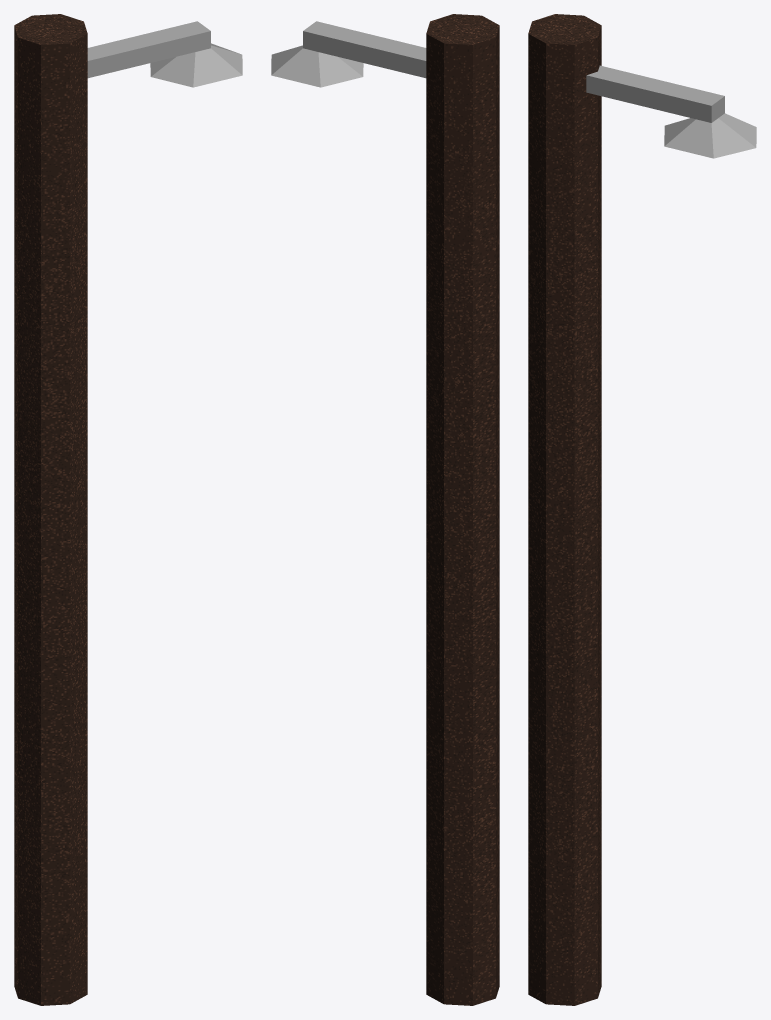
The model's file is Lamppost.glb.
3 views of the same model, side by side, from view 1: azimuth 30°, elevation 25°; view 2: azimuth 150°, elevation 25°; view 3: azimuth 330°, elevation 25° (orthographic).
Visible parts, largest first — view 1: Cylinder; view 2: Cylinder; view 3: Cylinder.
Part boxes in pixels (box(x1,y1,x2,y2)): Cylinder: box(14, 14, 242, 1005); Cylinder: box(271, 14, 499, 1005); Cylinder: box(528, 14, 756, 1005).
Size of the model in its own units: 6.81 by 27.88 by 2.26.
Materials: 3 (3 with a texture image).
